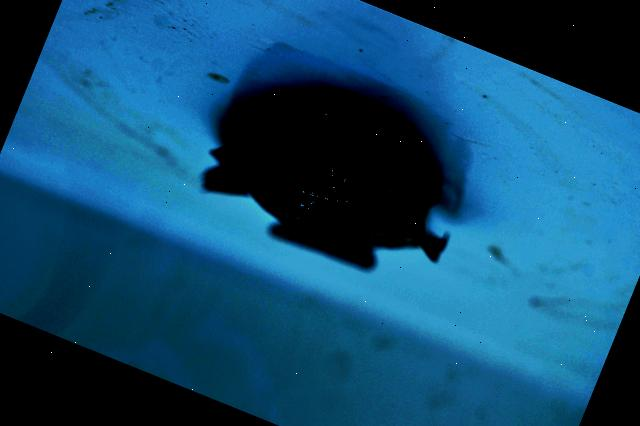Columnaris Disease: (208, 93, 444, 261)
